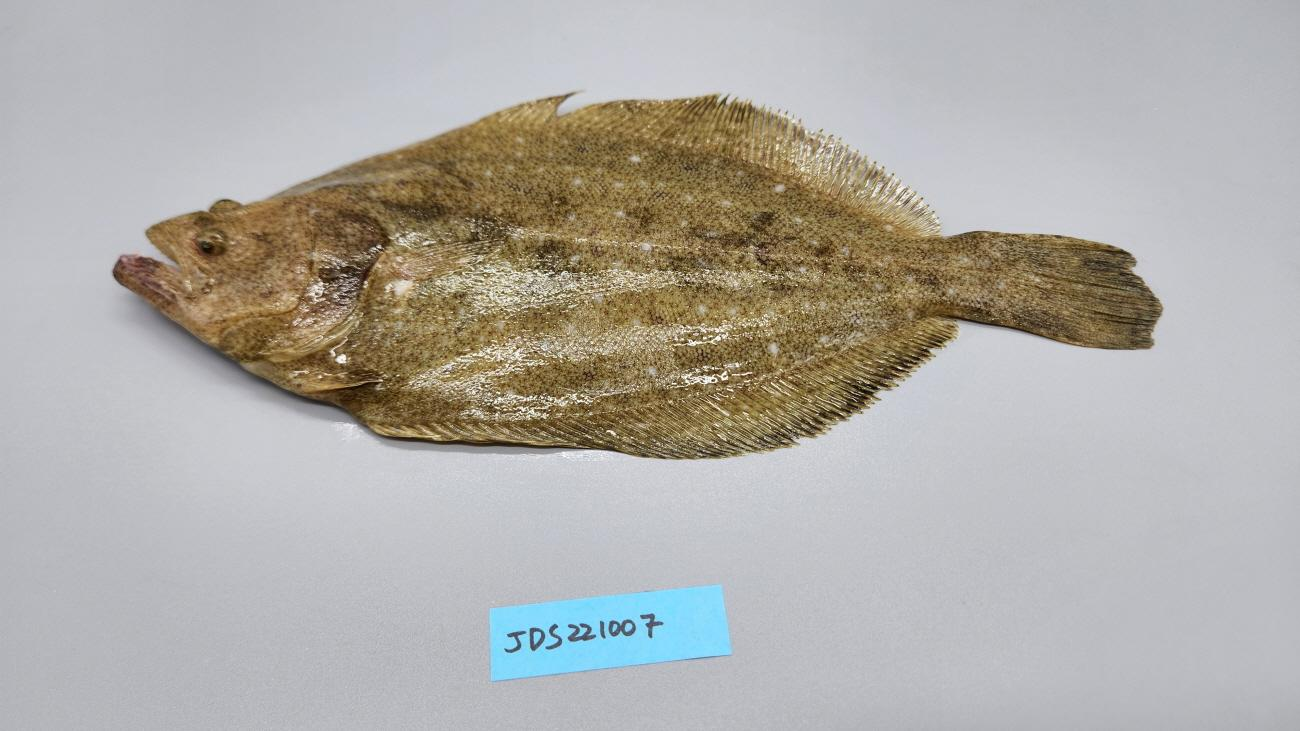VIMOU: (115, 226, 184, 268)
VIOUY: (105, 84, 1169, 472)
